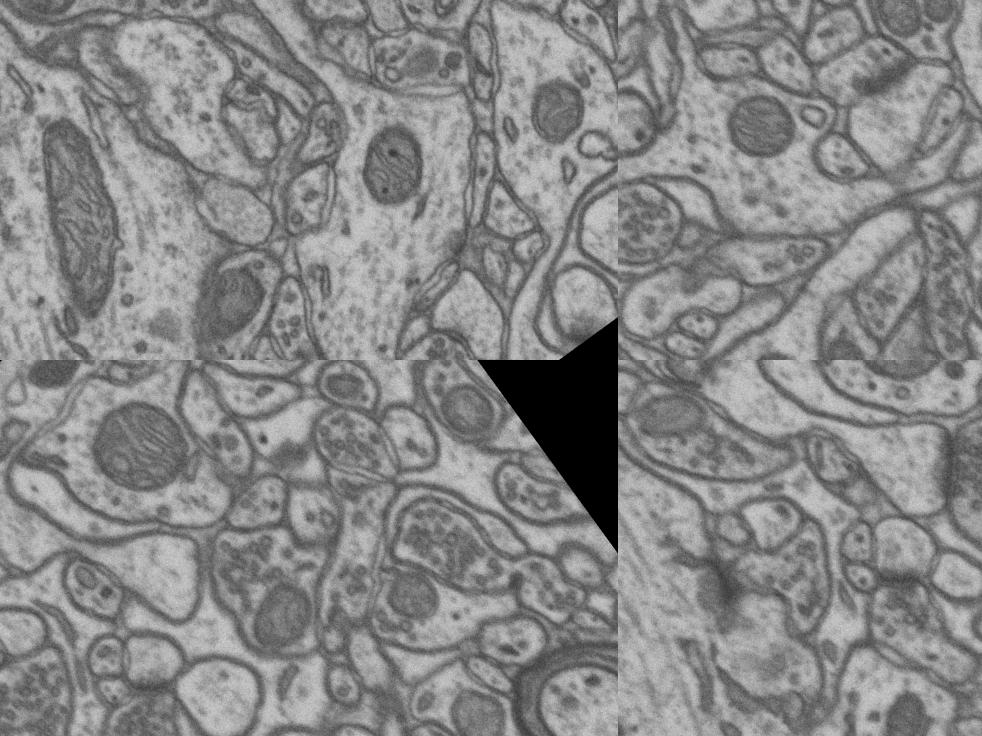mitochondria: (0, 100, 193, 341), (66, 372, 211, 516), (698, 60, 824, 188), (332, 100, 456, 225), (170, 243, 299, 360), (230, 544, 344, 656), (509, 56, 615, 164), (618, 361, 713, 468), (419, 360, 511, 450), (368, 548, 456, 636), (826, 360, 972, 408), (0, 360, 75, 449), (430, 670, 527, 736), (855, 0, 951, 64), (0, 0, 112, 48), (797, 307, 888, 360), (849, 686, 941, 736), (906, 0, 981, 40), (954, 232, 982, 339)
